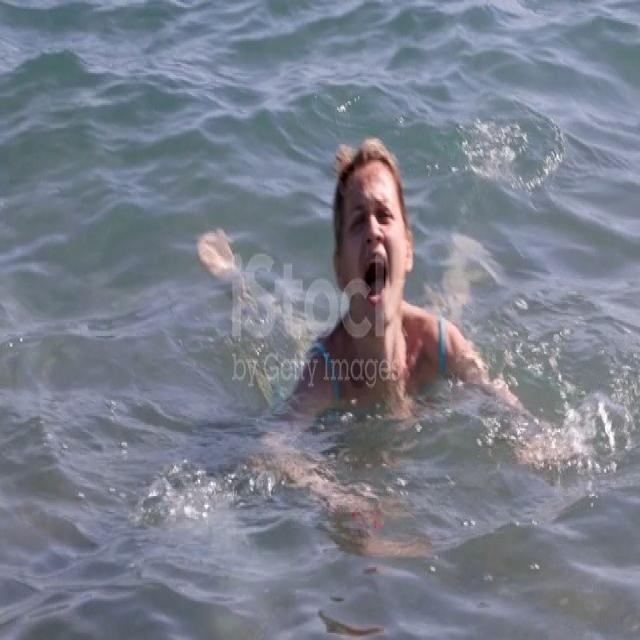Out of Water: (264, 158, 504, 440)
